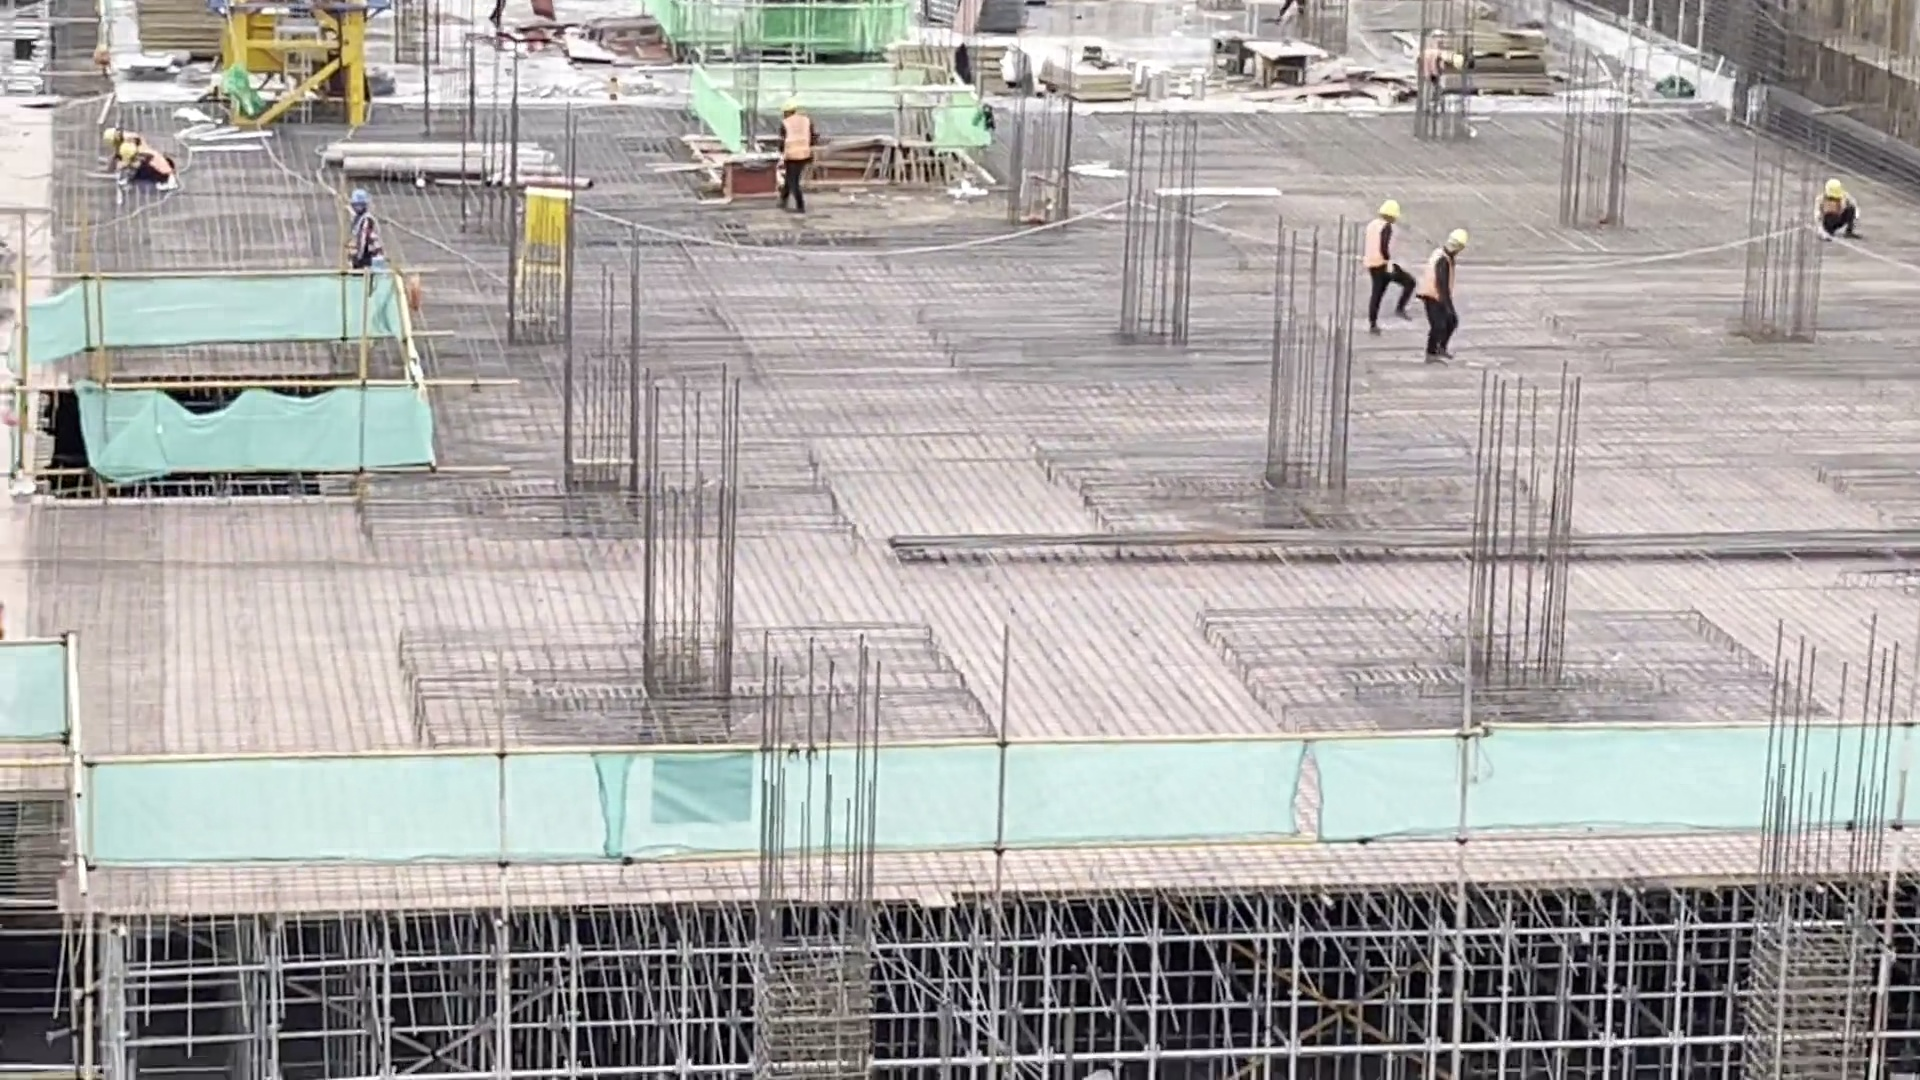board: (1421, 19, 1564, 108), (1028, 35, 1133, 94)
ebox: (520, 187, 573, 264)
helmet: (1376, 198, 1401, 219), (1824, 175, 1842, 203), (348, 190, 369, 212), (1448, 228, 1473, 247), (120, 143, 136, 160), (1451, 53, 1464, 72), (103, 128, 116, 147), (777, 99, 797, 111)
person: (1360, 193, 1417, 337), (1417, 219, 1471, 364), (769, 97, 814, 211), (1412, 42, 1469, 106), (121, 143, 182, 194), (1818, 176, 1864, 243), (340, 190, 380, 265), (93, 126, 148, 156)
vest: (1419, 246, 1452, 305), (782, 117, 815, 163), (1366, 213, 1391, 271)
